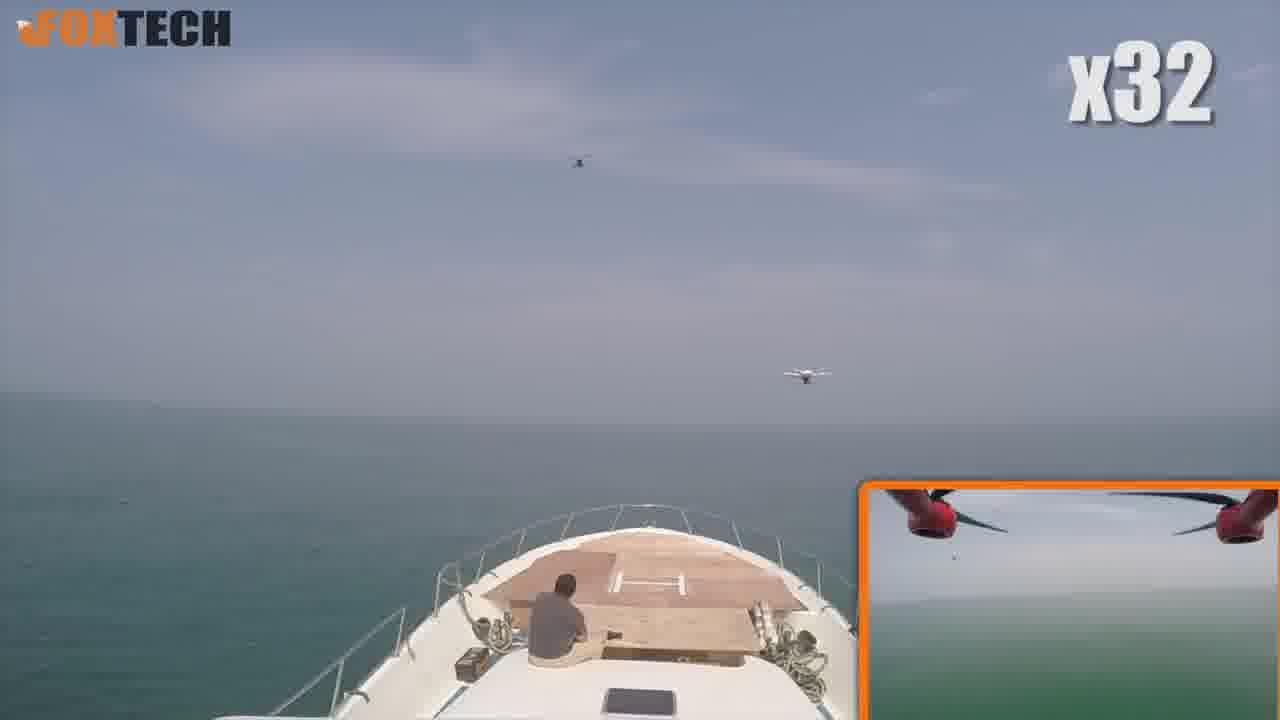drone: (775, 356, 846, 389)
